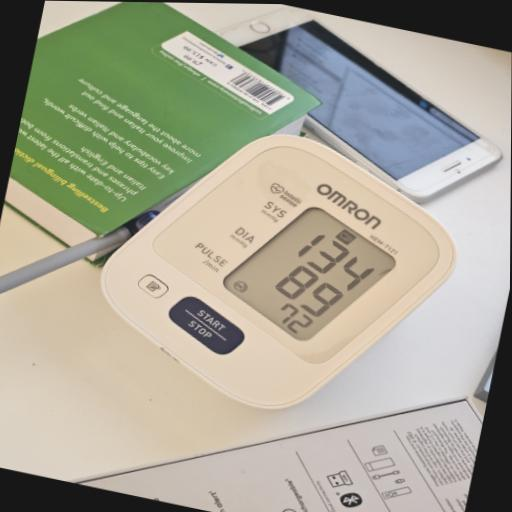lcd display: (208, 188, 411, 362)
